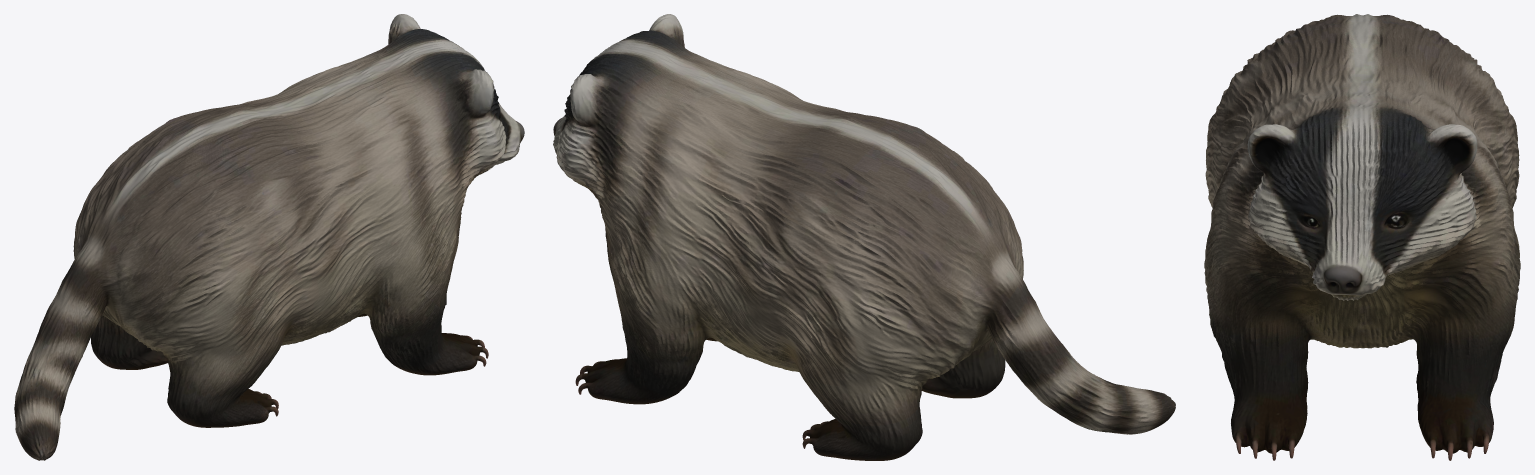
The model's file is Dachs.fbx.
3 renders of one model, left to right at view 1: azimuth 30°, elevation 25°; view 2: azimuth 150°, elevation 25°; view 3: azimuth 270°, elevation 25°, orthographic. The views are drawn at different scales.
Parts seen in each view (by area): view 1: tripo_node_ccd6e408; view 2: tripo_node_ccd6e408; view 3: tripo_node_ccd6e408.
Boxes of the visible parts, <box> form: tripo_node_ccd6e408: <box>14,14,524,460</box>; tripo_node_ccd6e408: <box>553,14,1175,460</box>; tripo_node_ccd6e408: <box>1204,14,1520,460</box>.
Bounding box in the file's own units: 0.9998 × 0.5126 × 0.435.
1 material, 1 textured.
